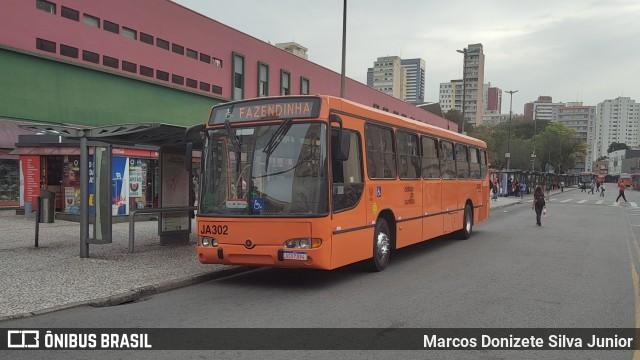FAZENDINHA: (236, 99, 312, 122)
